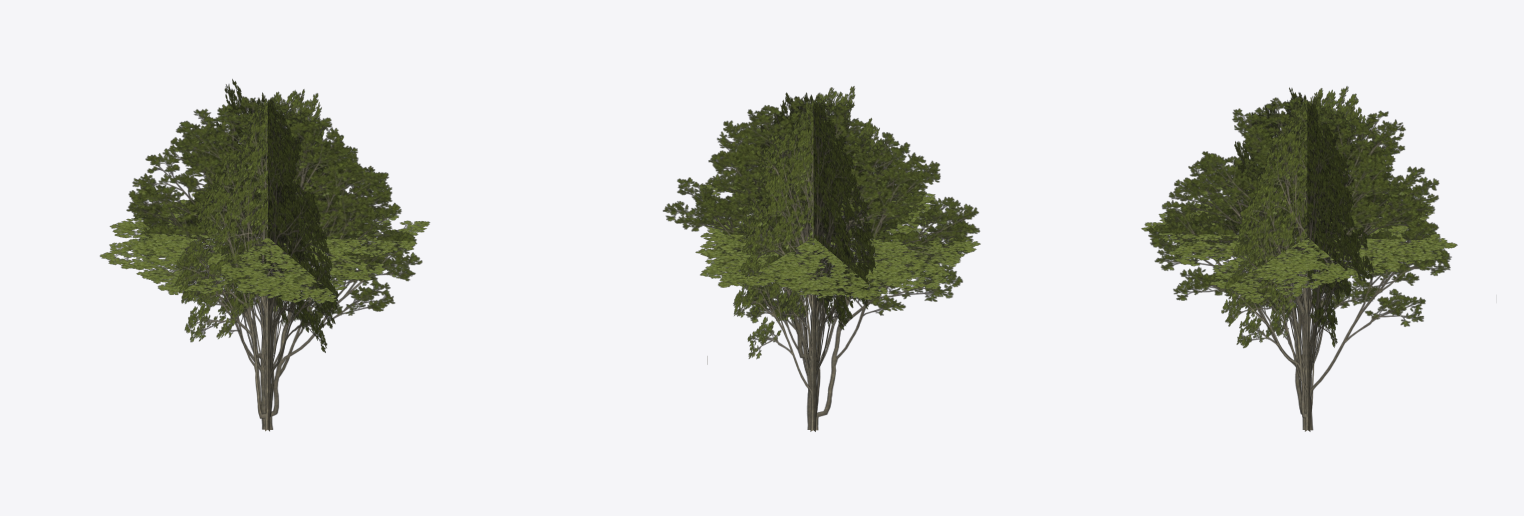
Rendered from Дерево .glb.
The picture shows the model from 3 angles, left to right: view 1: azimuth 30°, elevation 25°; view 2: azimuth 150°, elevation 25°; view 3: azimuth 270°, elevation 25°; orthographic projection.
Visible parts, largest first — view 1: maf.4766; view 2: maf.4766; view 3: maf.4766.
Part boxes in pixels (<box>): maf.4766: <box>100,79,429,431</box>; maf.4766: <box>663,86,980,431</box>; maf.4766: <box>1141,86,1457,431</box>.
Bounding box in the file's own units: 17.33 × 16.31 × 17.33.
Materials: 1 (1 with a texture image).
